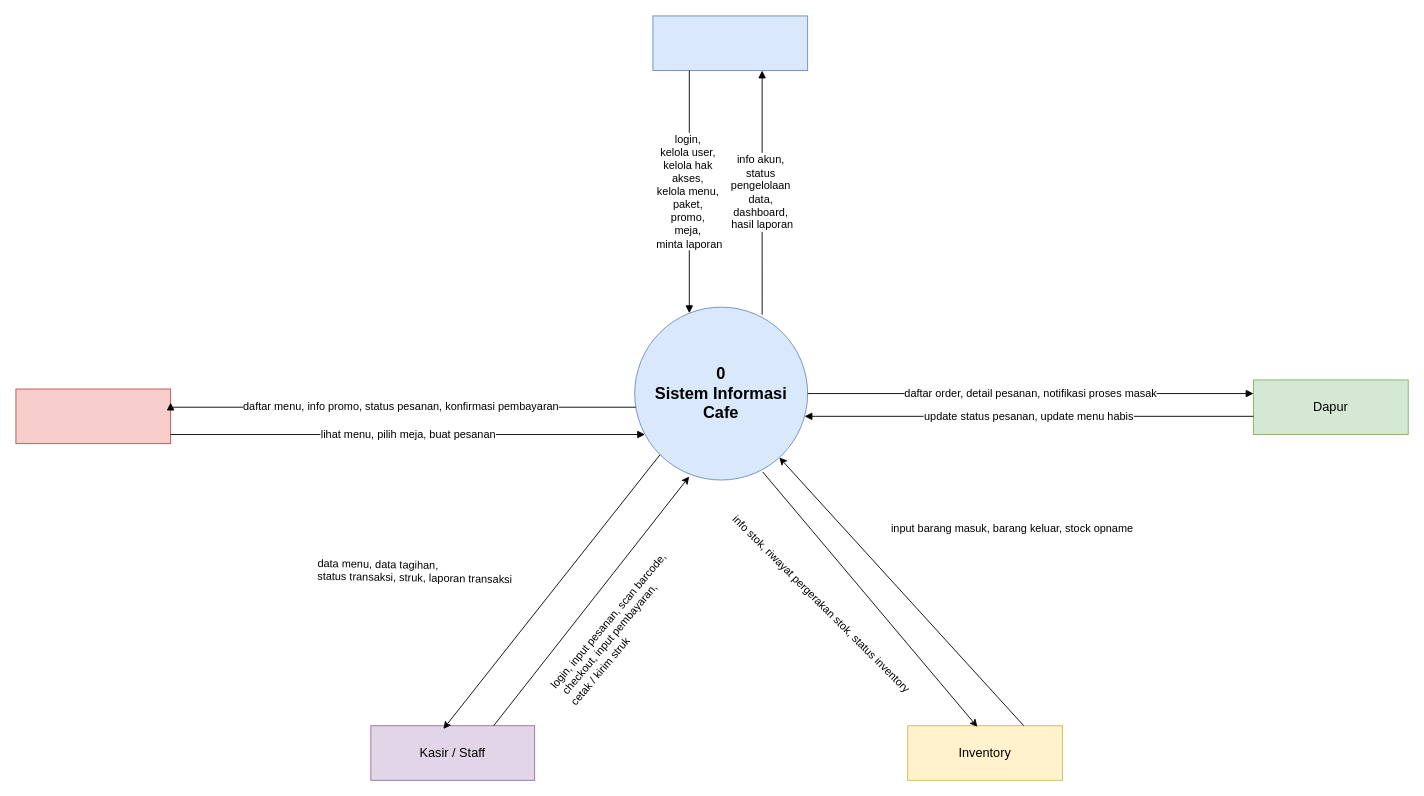
This 1424x796 diagram has some shape labels left out. The shapes that lost their labels are listed below. From the top down, each one's box as (x1, y1, x2, y2) in pixels, then its label:
(652, 15, 808, 71): Superadmin
(15, 388, 171, 444): Pelanggan
